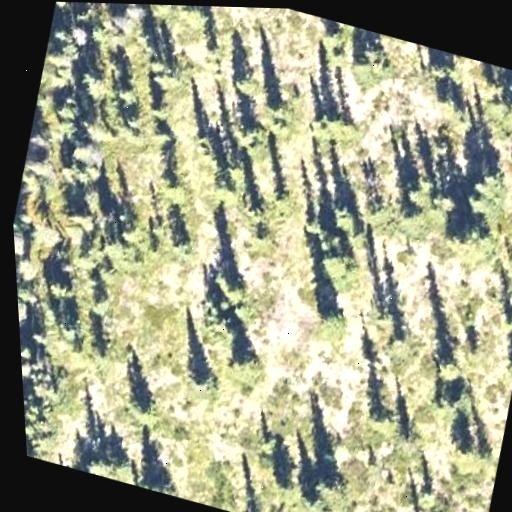tree-top: (458, 160, 512, 217), (305, 100, 362, 148), (316, 239, 367, 290), (346, 35, 397, 85), (307, 461, 354, 510), (311, 297, 356, 339), (226, 340, 271, 382), (270, 466, 311, 512), (213, 266, 256, 309), (146, 58, 188, 100), (452, 424, 492, 468), (138, 463, 186, 498), (124, 387, 164, 427), (438, 90, 477, 131), (237, 115, 276, 155), (488, 79, 512, 141), (209, 171, 248, 209), (186, 361, 224, 397), (150, 163, 185, 195), (50, 91, 82, 125), (61, 199, 95, 231), (394, 427, 428, 458), (171, 233, 203, 265), (50, 312, 83, 343), (46, 272, 76, 305), (15, 254, 45, 286), (84, 451, 117, 480), (229, 73, 262, 100), (374, 402, 402, 433), (385, 331, 416, 358), (84, 74, 108, 103), (68, 21, 93, 48), (17, 287, 32, 329), (502, 344, 512, 379)
